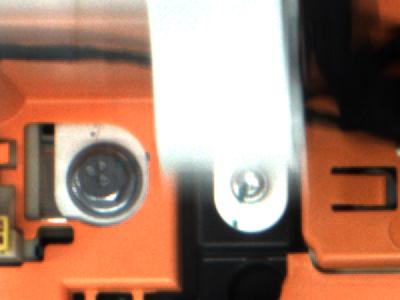nut_b: (68, 140, 144, 229)
